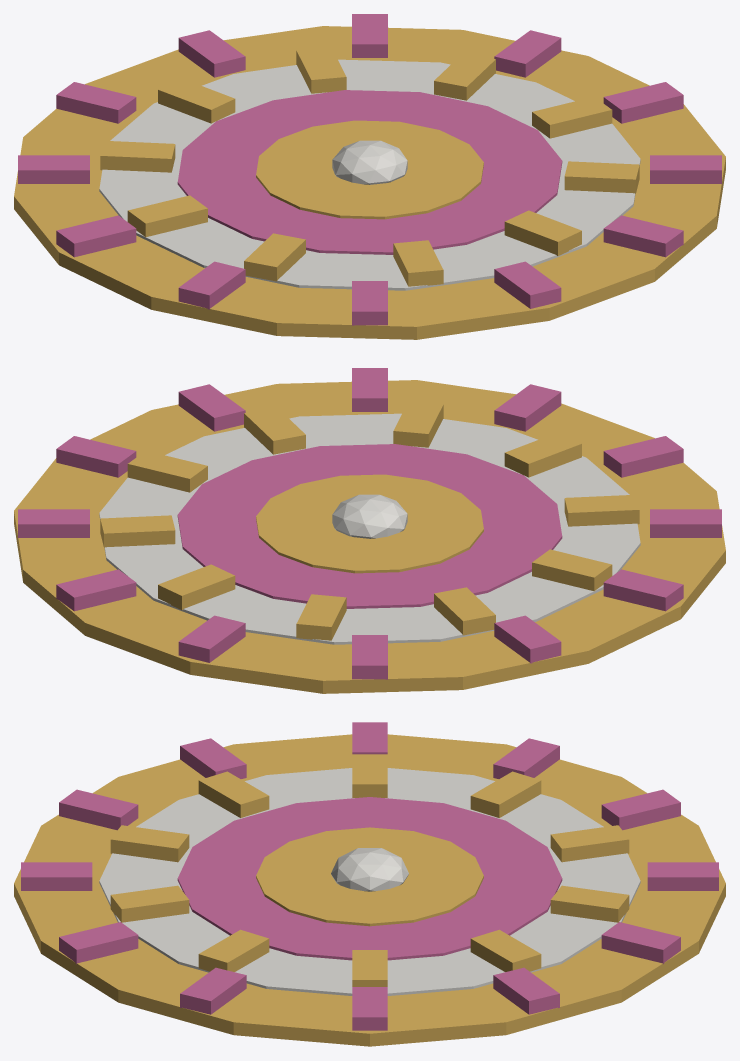
File: obstacle_pookalam.glb
3 views of the same model, one above another, from view 1: azimuth 30°, elevation 25°; view 2: azimuth 150°, elevation 25°; view 3: azimuth 270°, elevation 25° (orthographic).
Visible parts, largest first — view 1: geometry_0; view 2: geometry_0; view 3: geometry_0.
Boxes of the visible parts, left/top/right/bottom form: geometry_0: left=14, top=14, right=725, bottom=339; geometry_0: left=14, top=368, right=725, bottom=693; geometry_0: left=14, top=722, right=725, bottom=1046.
Size of the model in its own units: 1 by 0.068 by 1.
